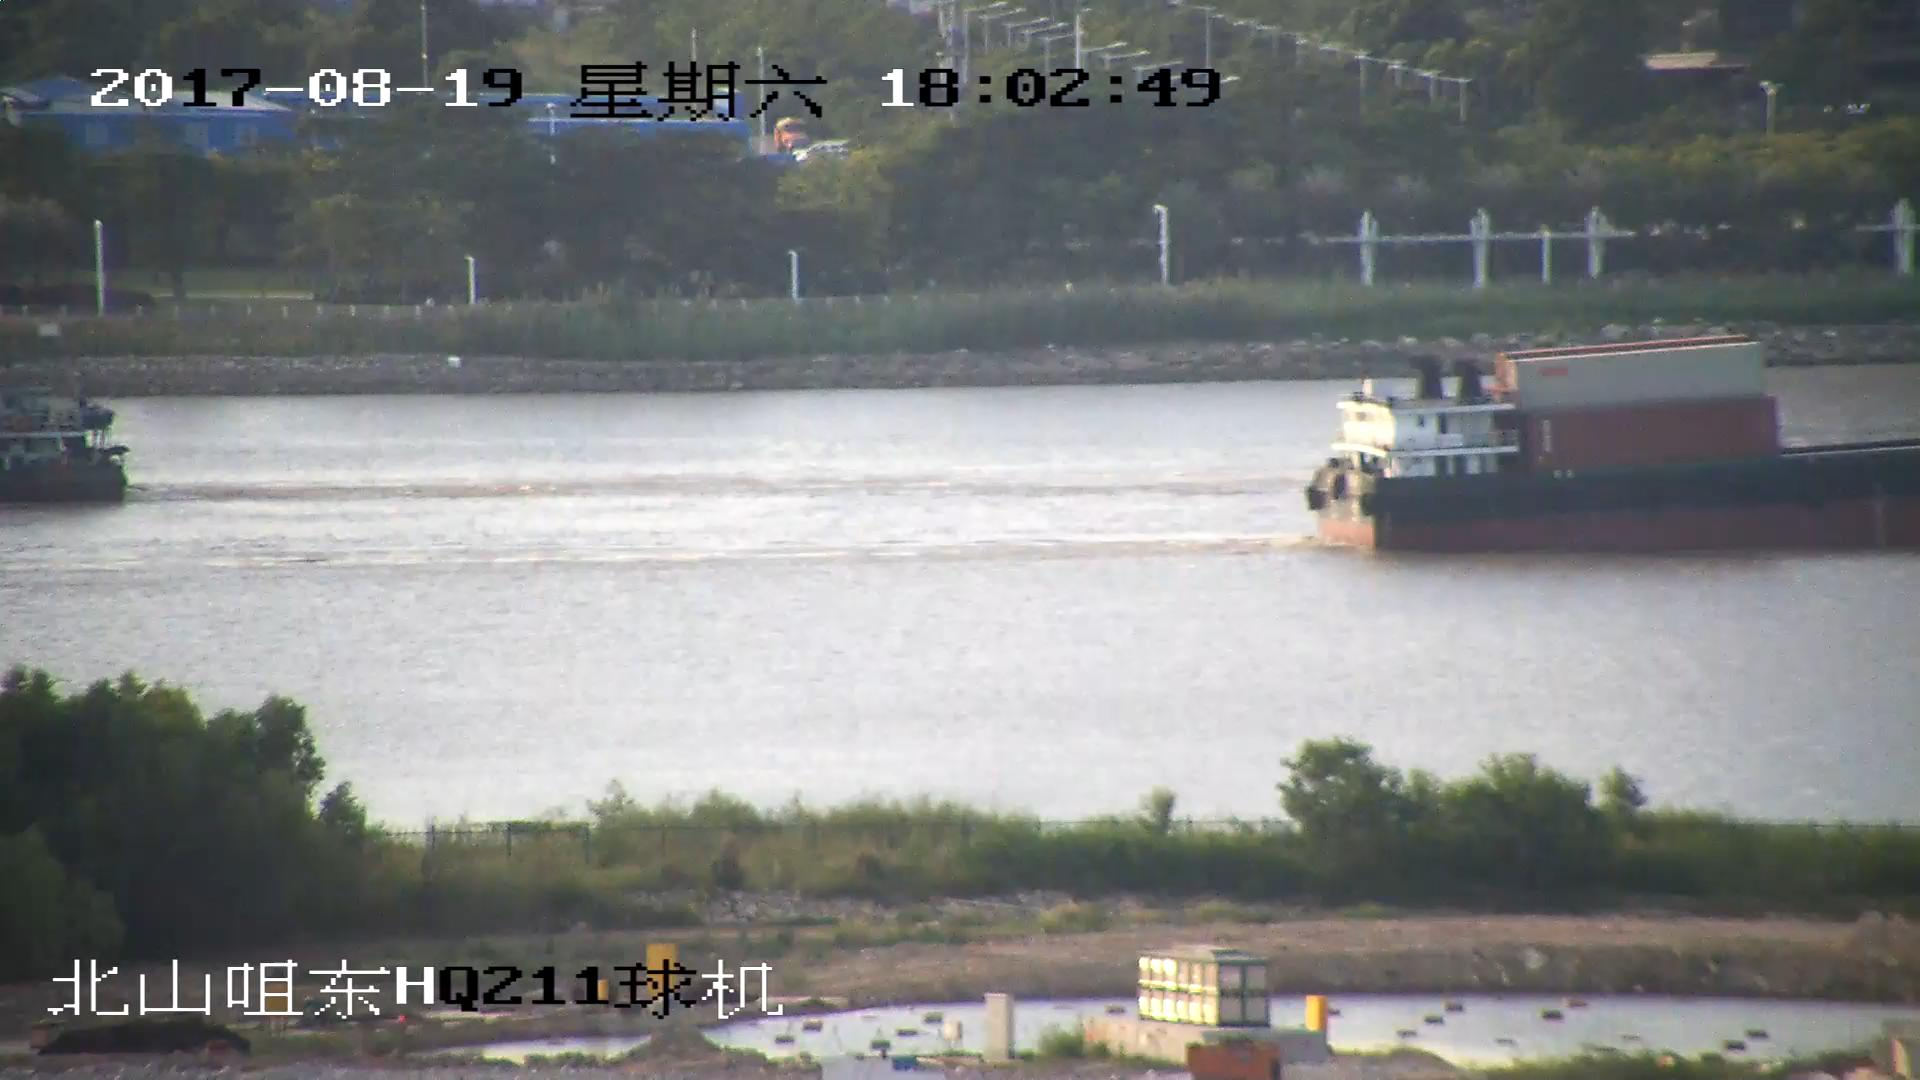container ship: (1299, 337, 1920, 544)
